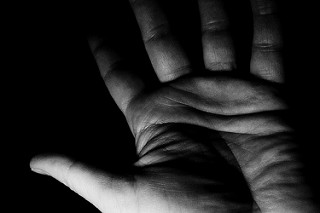palm: (143, 85, 289, 203)
